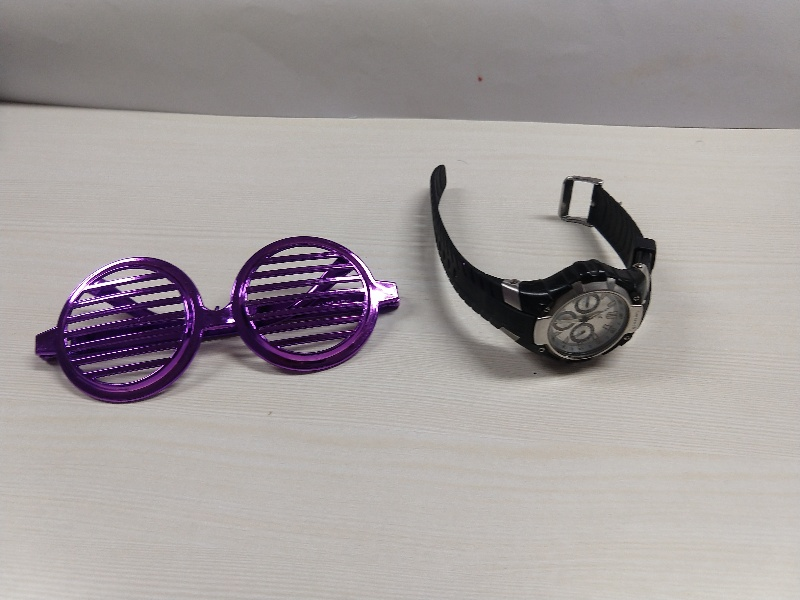shades: (26, 231, 403, 407)
watch: (425, 154, 662, 372)
